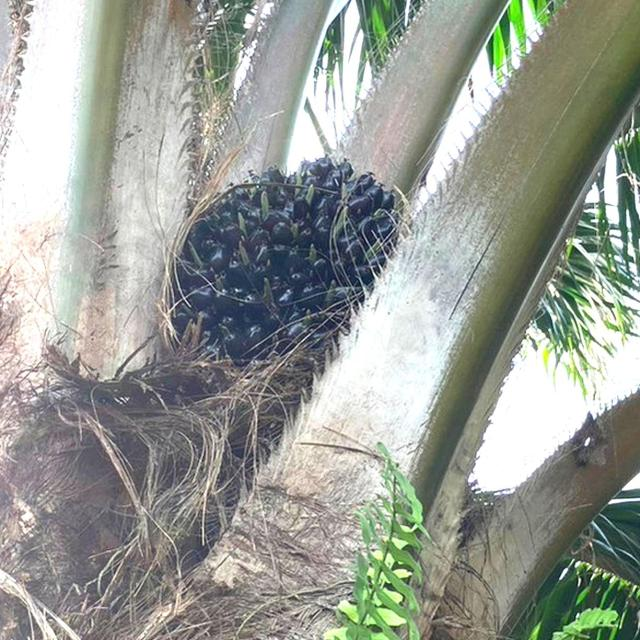unripe: (185, 154, 388, 388)
